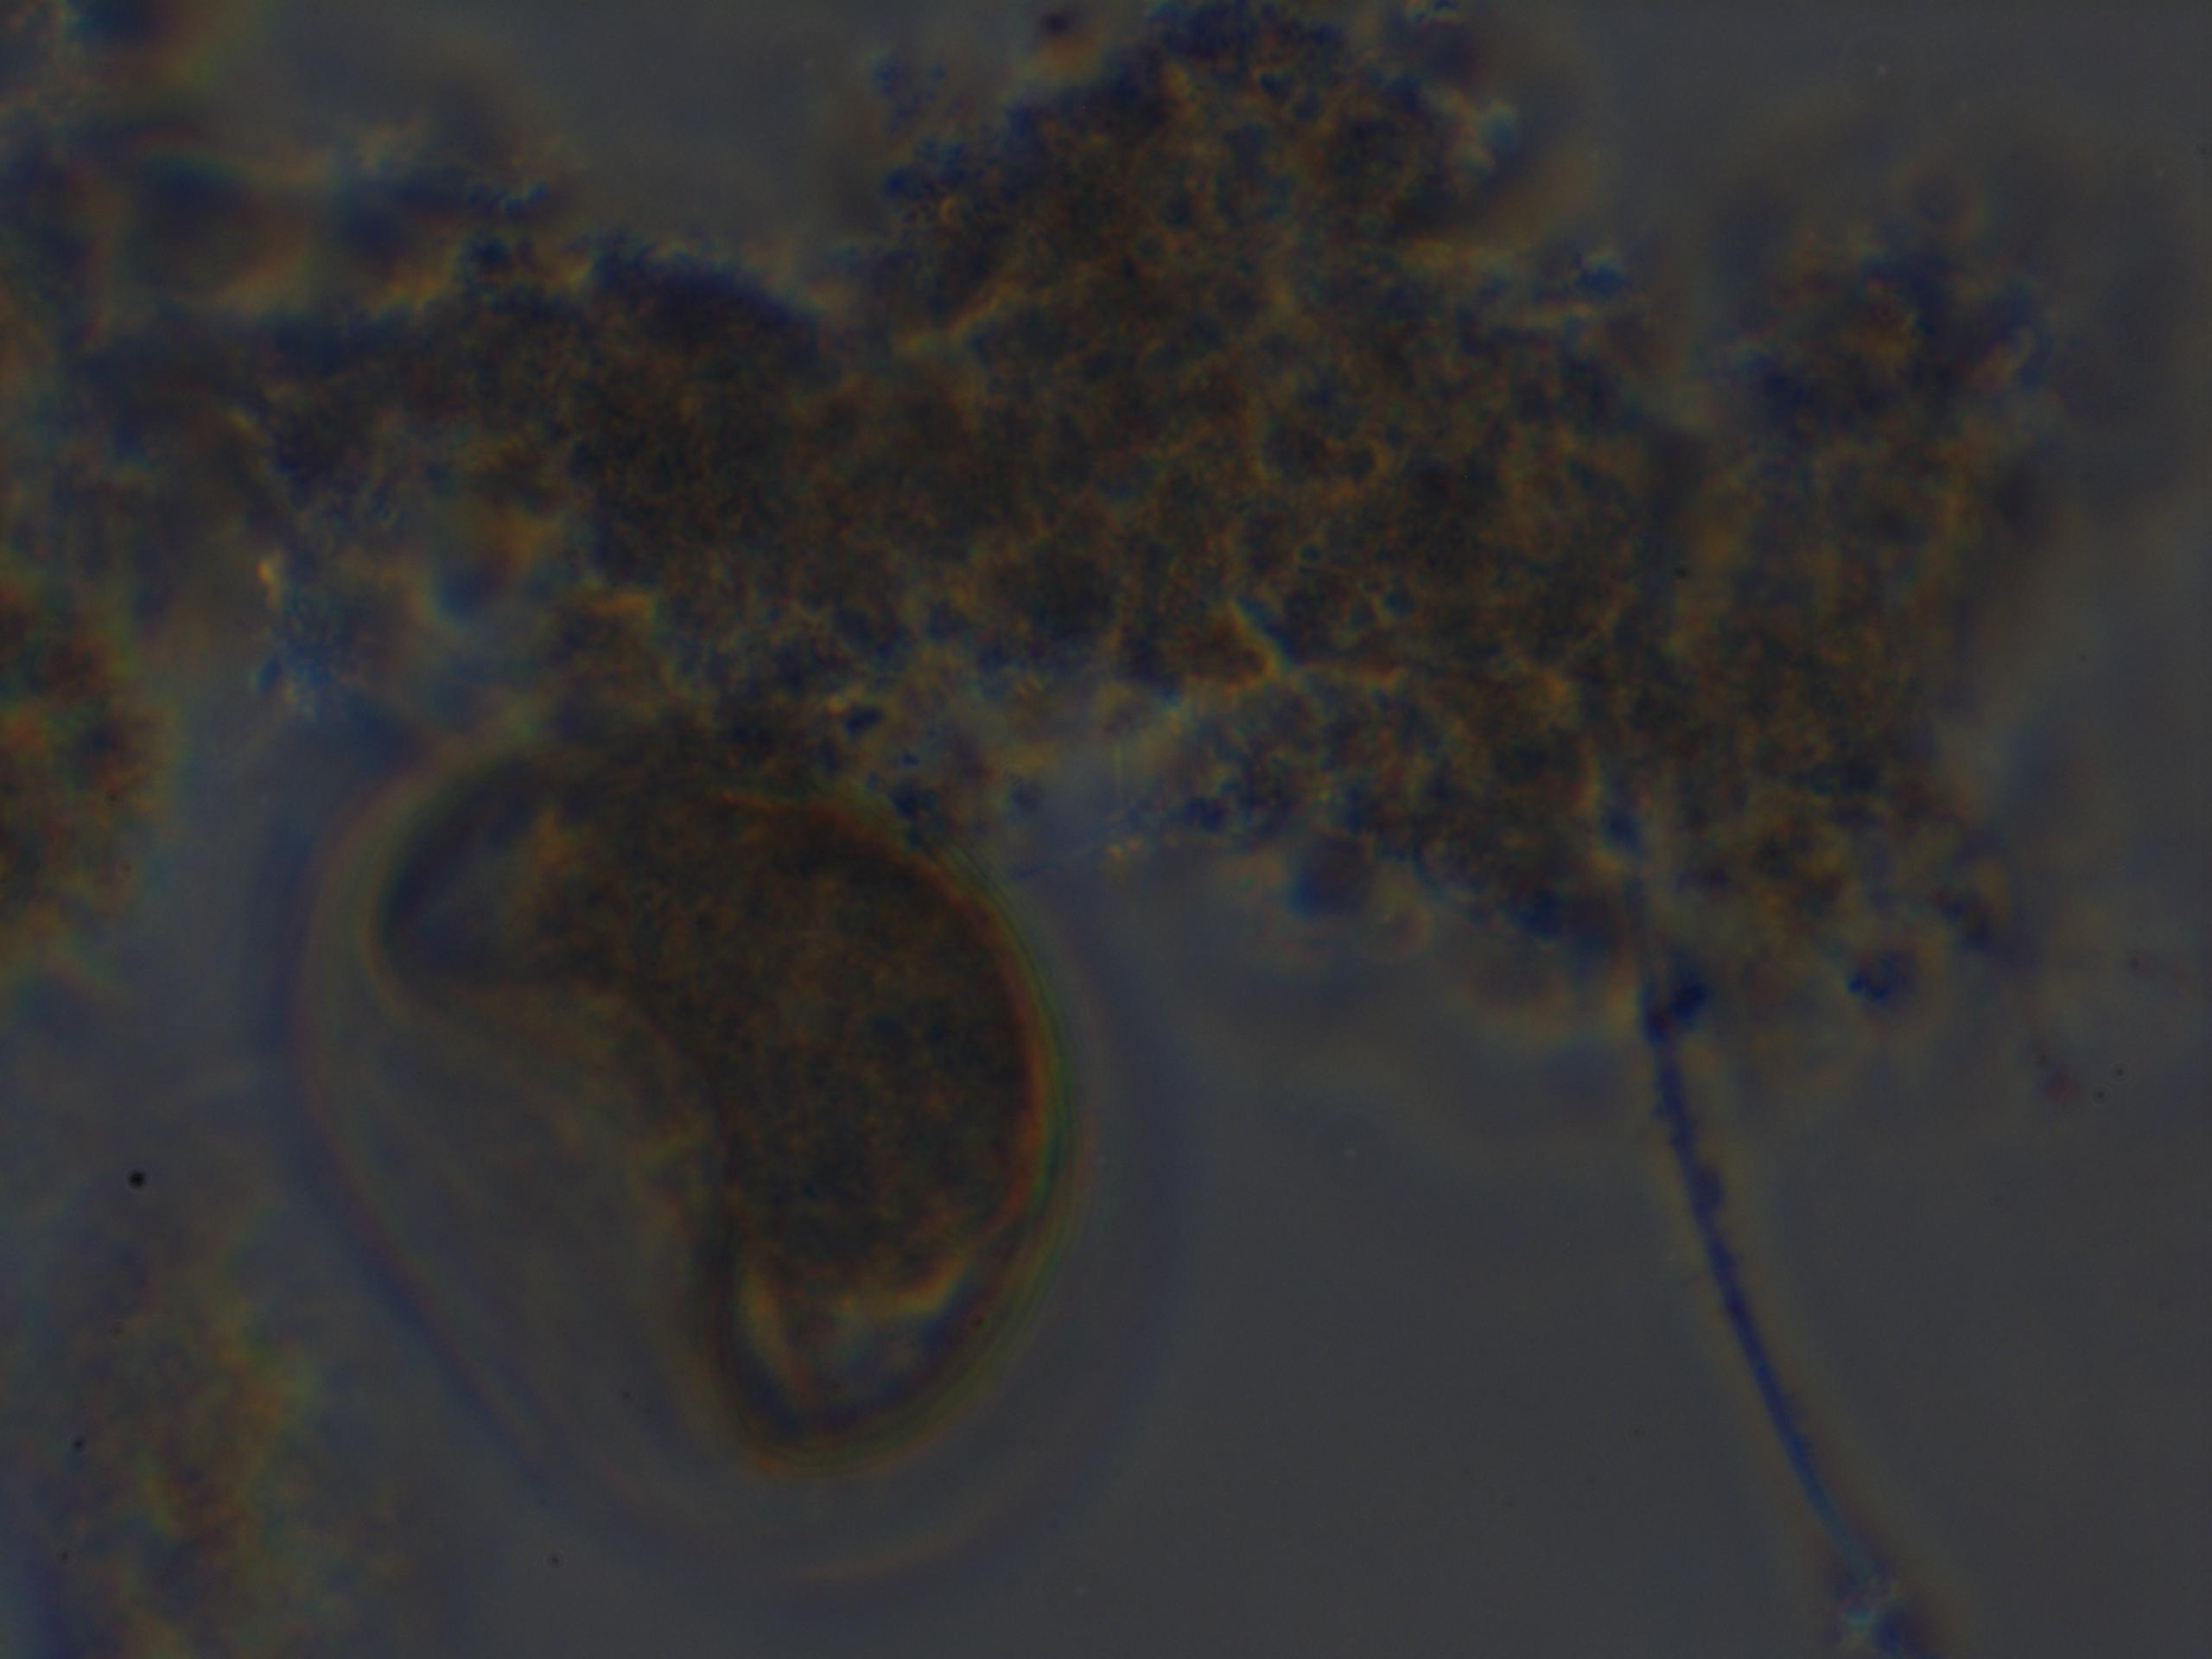filament: (1595, 791, 1947, 1659)
protozoa: (368, 699, 1075, 1493)
